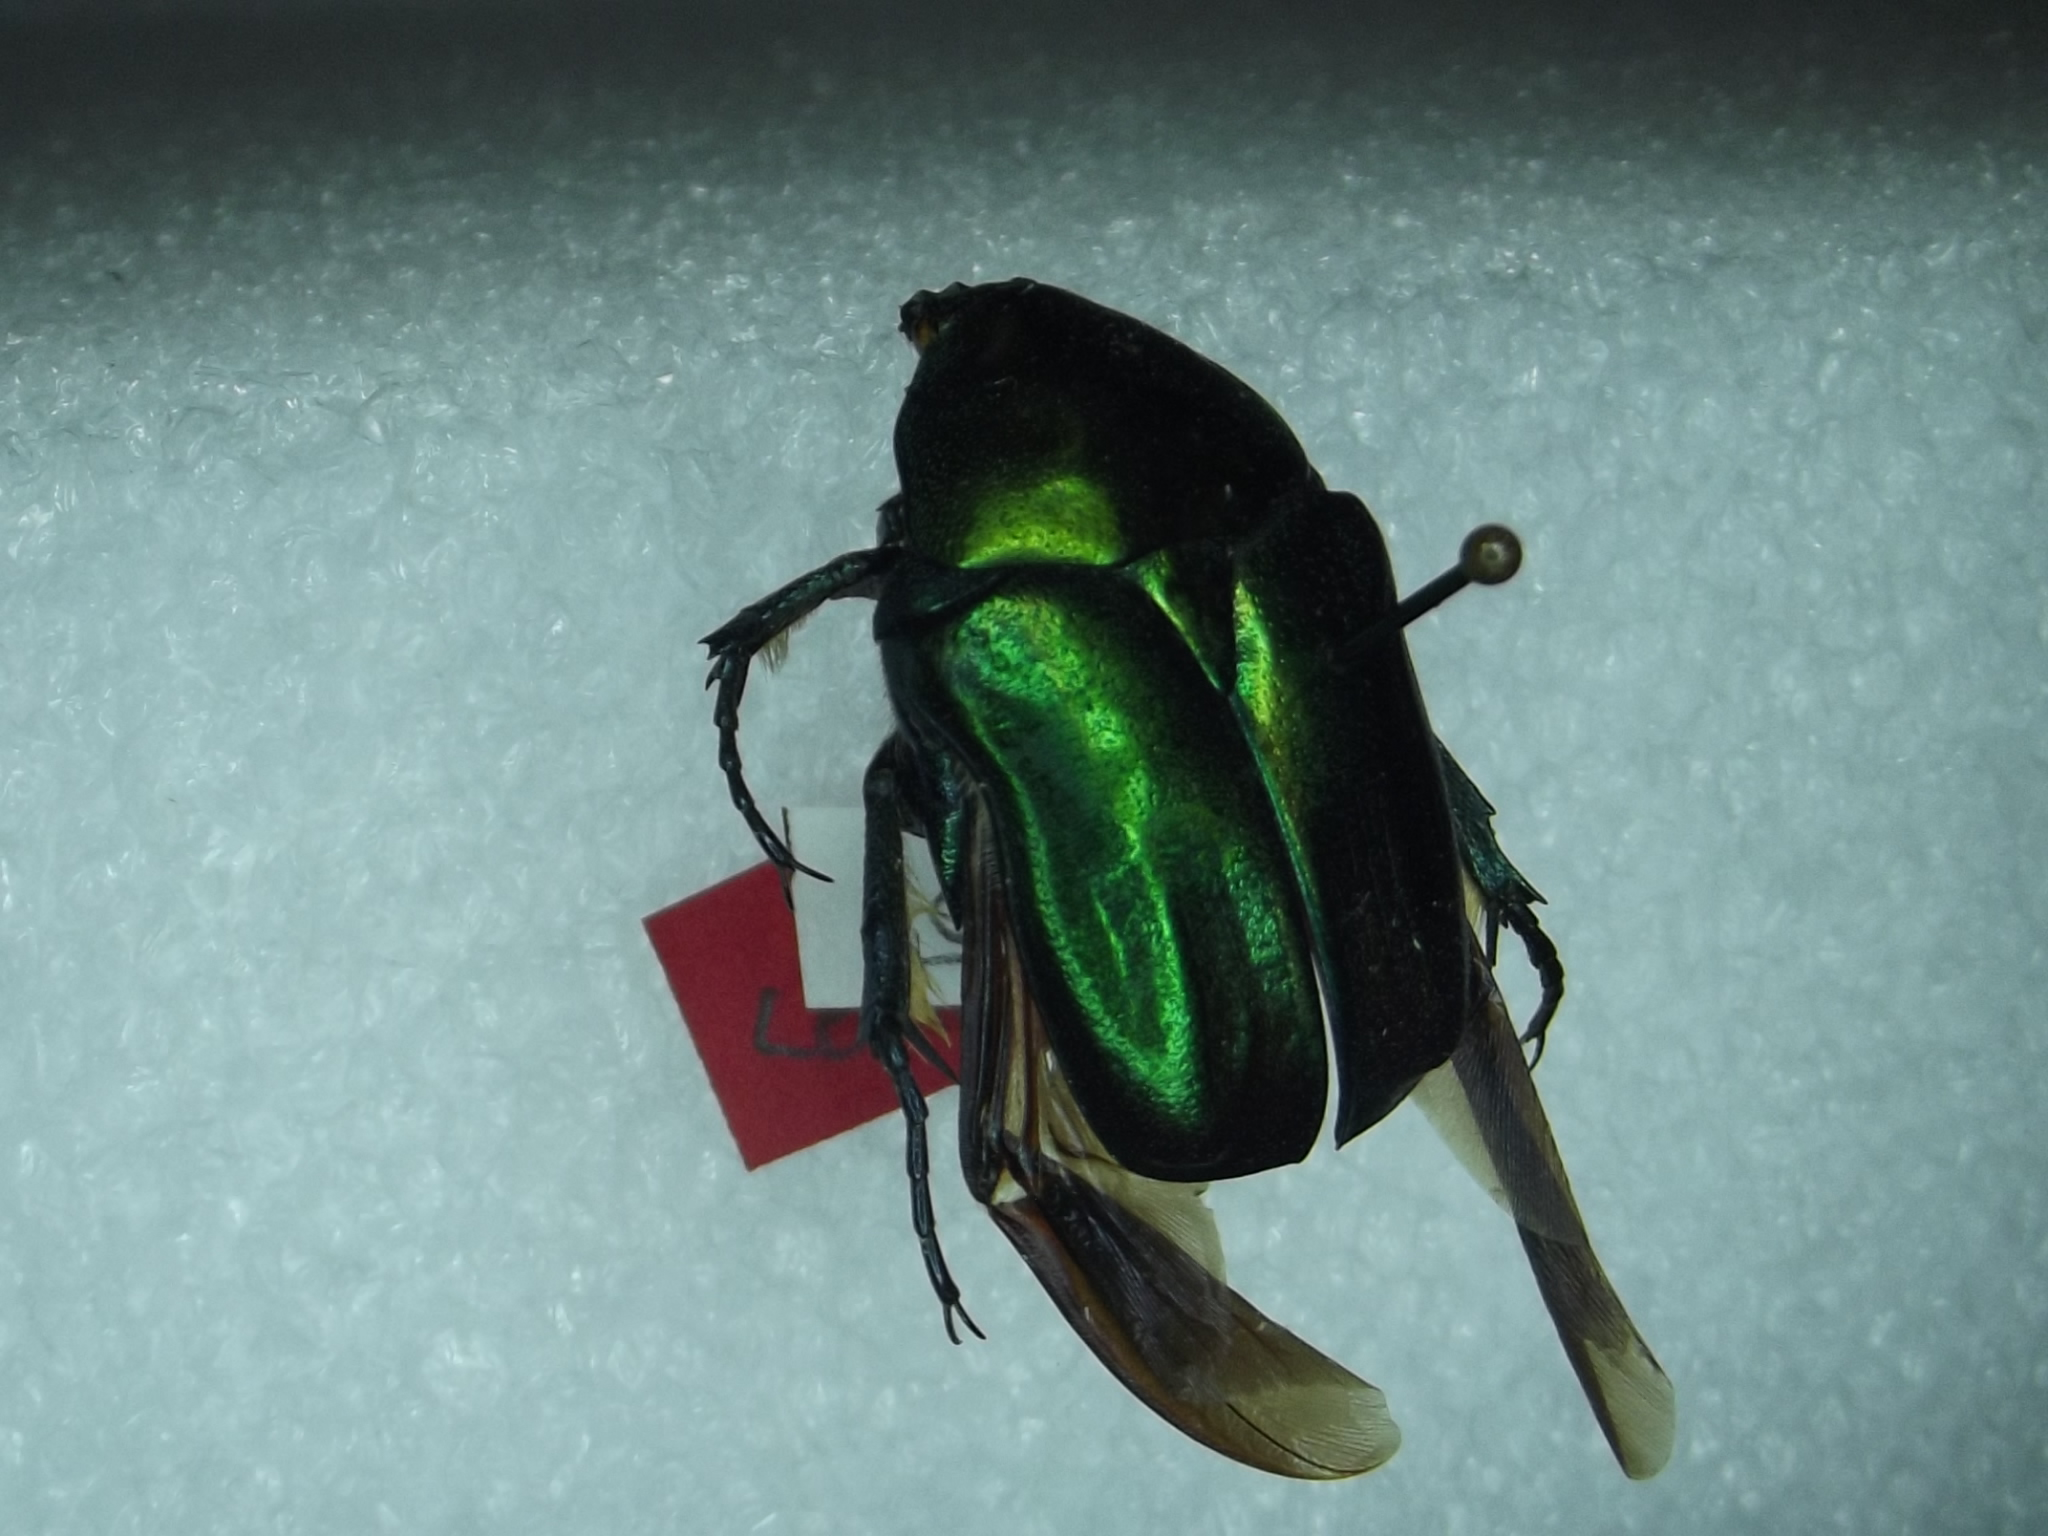Protaetia_besucheti: (703, 232, 1708, 1518)
